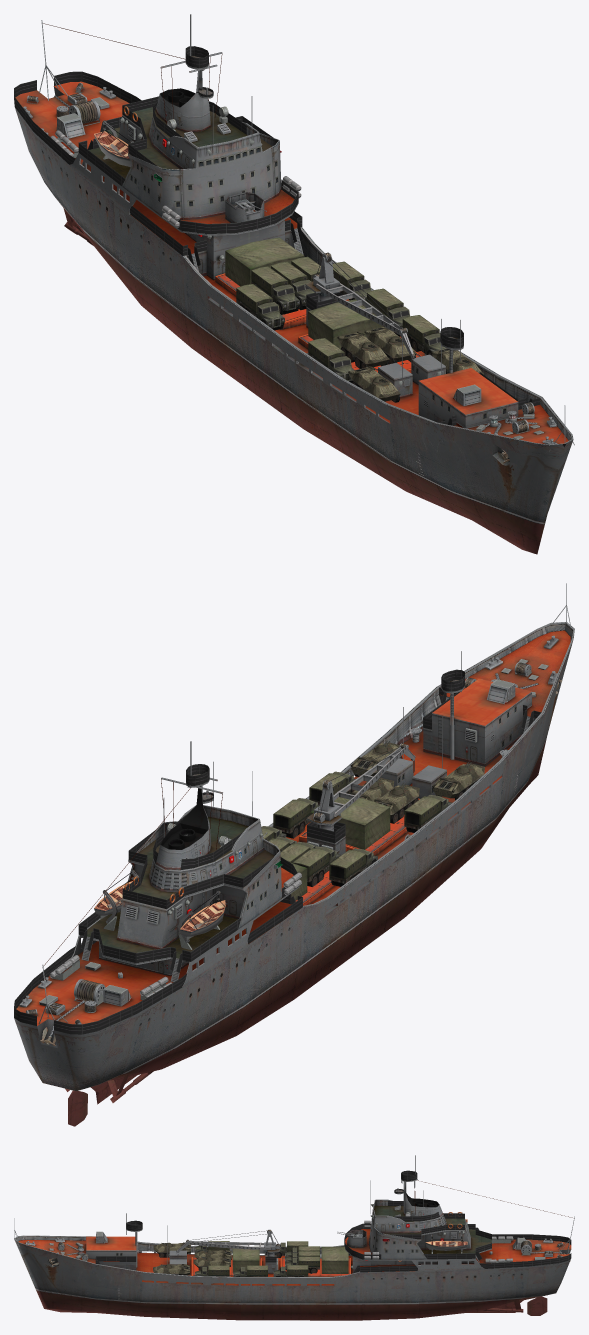
The model's file is ship.glb.
3 views of the same model, one above another, from view 1: azimuth 30°, elevation 25°; view 2: azimuth 150°, elevation 25°; view 3: azimuth 270°, elevation 25° (orthographic). The views are drawn at different scales.
Parts seen in each view (by area): view 1: alligator_0, alligator.006_6, alligator.010_10, alligator.011_11, alligator.002_2, alligator.005_5, alligator.004_4, alligator.012_12, alligator.001_1, alligator.009_9, alligator.007_7; view 2: alligator_0, alligator.001_1, alligator.010_10, alligator.004_4, alligator.005_5, alligator.006_6, alligator.011_11, alligator.003_3, alligator.002_2; view 3: alligator_0, alligator.008_8, alligator.009_9, alligator.012_12, alligator.001_1, alligator.002_2, alligator.003_3, alligator.004_4, alligator.010_10, alligator.011_11.
Boxes of the visible parts, x1=… form: alligator_0: x1=14, y1=14, x2=574, y2=554; alligator.006_6: x1=251, y1=266, x2=299, y2=314; alligator.010_10: x1=236, y1=284, x2=284, y2=330; alligator.011_11: x1=337, y1=331, x2=389, y2=368; alligator.002_2: x1=402, y1=315, x2=446, y2=356; alligator.005_5: x1=308, y1=338, x2=354, y2=382; alligator.004_4: x1=348, y1=366, x2=400, y2=402; alligator.012_12: x1=364, y1=327, x2=416, y2=364; alligator.001_1: x1=367, y1=288, x2=409, y2=336; alligator.009_9: x1=332, y1=261, x2=371, y2=300; alligator.007_7: x1=271, y1=261, x2=314, y2=310; alligator_0: x1=14, y1=583, x2=574, y2=1126; alligator.001_1: x1=273, y1=798, x2=318, y2=838; alligator.010_10: x1=329, y1=848, x2=377, y2=886; alligator.004_4: x1=432, y1=761, x2=484, y2=800; alligator.005_5: x1=404, y1=794, x2=452, y2=832; alligator.006_6: x1=292, y1=846, x2=340, y2=886; alligator.011_11: x1=373, y1=783, x2=419, y2=823; alligator.003_3: x1=350, y1=740, x2=402, y2=776; alligator.002_2: x1=309, y1=771, x2=355, y2=805; alligator_0: x1=14, y1=1155, x2=574, y2=1320; alligator.008_8: x1=285, y1=1256, x2=319, y2=1273; alligator.009_9: x1=273, y1=1265, x2=308, y2=1276; alligator.012_12: x1=193, y1=1256, x2=230, y2=1271; alligator.001_1: x1=233, y1=1265, x2=267, y2=1276; alligator.002_2: x1=195, y1=1265, x2=229, y2=1276; alligator.003_3: x1=153, y1=1264, x2=189, y2=1275; alligator.004_4: x1=153, y1=1242, x2=190, y2=1257; alligator.010_10: x1=276, y1=1241, x2=308, y2=1257; alligator.011_11: x1=194, y1=1249, x2=231, y2=1259.
Bounding box in the file's own units: 2.27 × 5.14 × 16.34.
Materials: 5 (4 with a texture image).
